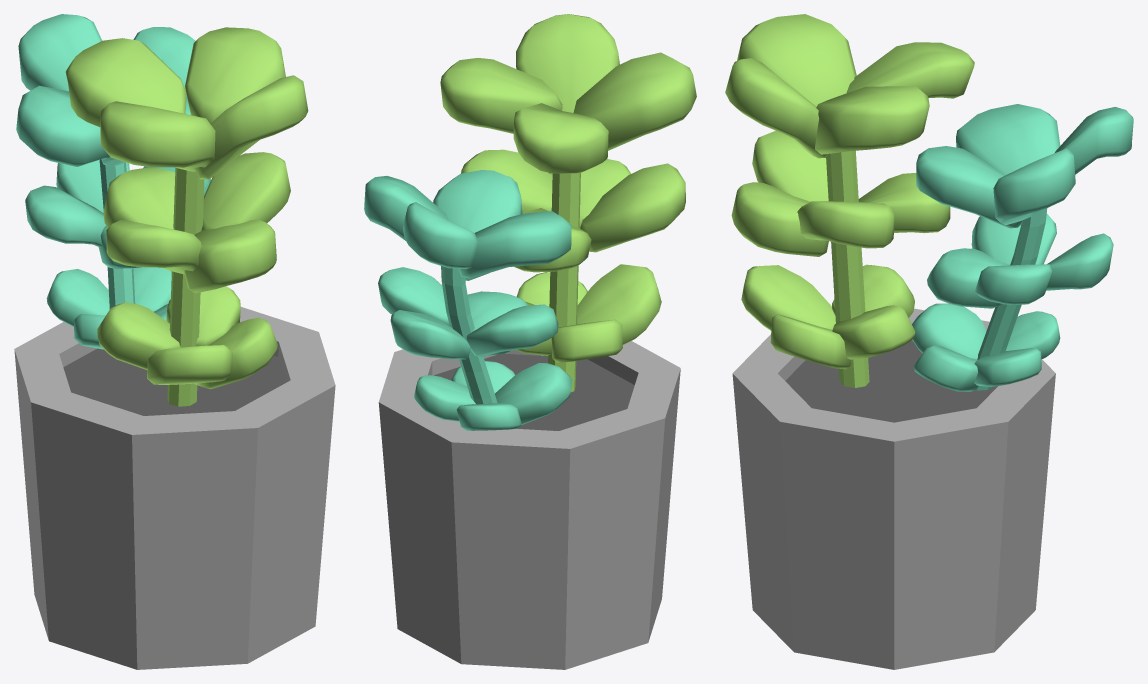
Rendered from Folige_03.fbx.
3 renders of one model, left to right at view 1: azimuth 30°, elevation 25°; view 2: azimuth 150°, elevation 25°; view 3: azimuth 270°, elevation 25°, orthographic. The views are drawn at different scales.
Visible parts, largest first — view 1: Plane.027; view 2: Plane.027; view 3: Plane.027.
Boxes of the visible parts, x1,y1,x2,y2 form: Plane.027: (14,14,335,669); Plane.027: (364,14,696,669); Plane.027: (725,14,1133,669).
Size of the model in its own units: 49.8 by 94.78 by 62.92.
